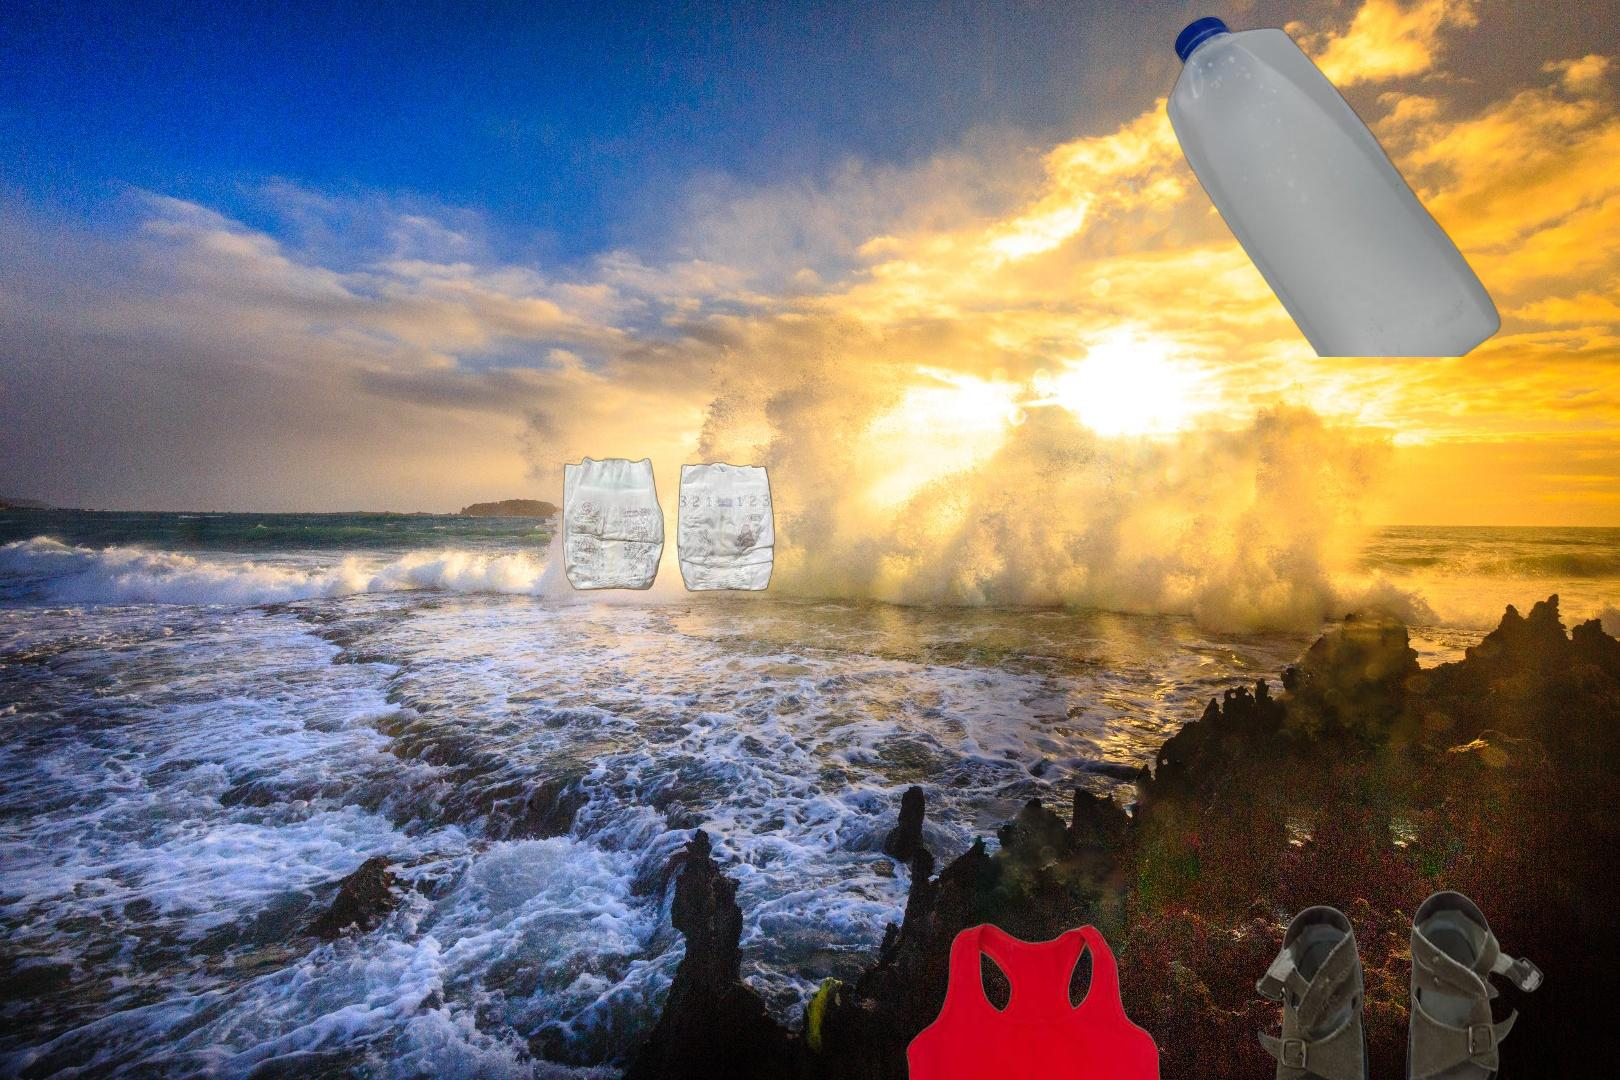clothes: (879, 918, 1197, 1080)
plastic-bottles: (1163, 12, 1504, 357)
shoes: (1252, 886, 1546, 1080)
trash: (560, 453, 777, 595)
